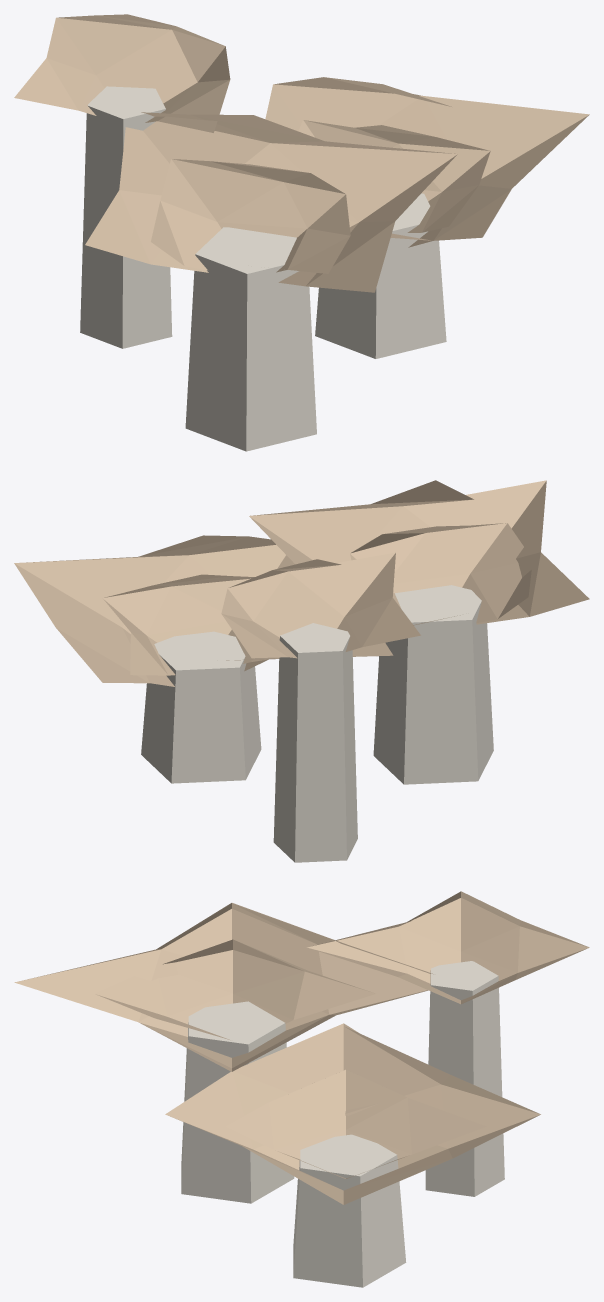
The model's file is mushroom_v27.glb.
The picture shows the model from 3 angles, top to bottom: view 1: azimuth 30°, elevation 25°; view 2: azimuth 150°, elevation 25°; view 3: azimuth 270°, elevation 25°; orthographic projection. The views are drawn at different scales.
Visible parts, largest first — view 1: lod0; view 2: lod0; view 3: lod0.
Part boxes in pixels (<box>): lod0: <box>14,14,589,451</box>; lod0: <box>14,480,589,862</box>; lod0: <box>14,891,589,1287</box>.
Size of what is drawn, in the model's own units: 0.8901 by 0.4709 by 0.8718.
